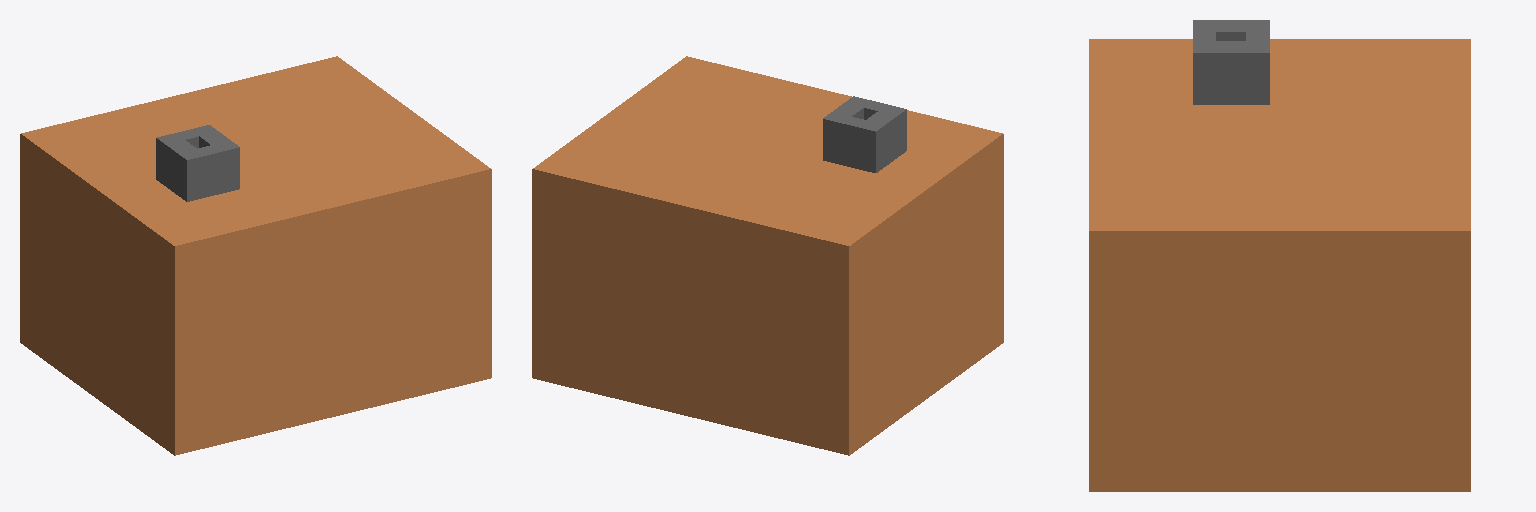
URDF robot description (peg_in_hole_tolerances_scenes_scene_0063_tol03):
<?xml version="1.0"?>
<robot name="peg_in_hole_tolerances_scenes_scene_0063_tol03">
  <material name="wood"><color rgba="0.82 0.56 0.35 1.0"/></material>
  <material name="hole_grey"><color rgba="0.4706 0.4706 0.4706 1.0"/></material>
  <link name="box">
    <visual>
      <origin xyz="0.000000 0.000000 0.000000" rpy="0 0 0"/>
      <geometry><box size="0.475000 0.400000 0.300000"/></geometry>
      <material name="wood"/>
    </visual>
    <collision>
      <origin xyz="0.000000 0.000000 0.000000" rpy="0 0 0"/>
      <geometry><box size="0.475000 0.400000 0.300000"/></geometry>
    </collision>
    <visual>
      <origin xyz="-0.115793 -0.050730 0.155000" rpy="0 0 0"/>
      <geometry><box size="0.080000 0.080000 0.010000"/></geometry>
      <material name="hole_grey"/>
    </visual>
    <collision>
      <origin xyz="-0.115793 -0.050730 0.155000" rpy="0 0 0"/>
      <geometry><box size="0.080000 0.080000 0.010000"/></geometry>
    </collision>
    <visual>
      <origin xyz="-0.090458 -0.050730 0.185000" rpy="0 0 0"/>
      <geometry><box size="0.029330 0.080000 0.050000"/></geometry>
      <material name="hole_grey"/>
    </visual>
    <collision>
      <origin xyz="-0.090458 -0.050730 0.185000" rpy="0 0 0"/>
      <geometry><box size="0.029330 0.080000 0.050000"/></geometry>
    </collision>
    <visual>
      <origin xyz="-0.141128 -0.050730 0.185000" rpy="0 0 0"/>
      <geometry><box size="0.029330 0.080000 0.050000"/></geometry>
      <material name="hole_grey"/>
    </visual>
    <collision>
      <origin xyz="-0.141128 -0.050730 0.185000" rpy="0 0 0"/>
      <geometry><box size="0.029330 0.080000 0.050000"/></geometry>
    </collision>
    <visual>
      <origin xyz="-0.115793 -0.022895 0.185000" rpy="0 0 0"/>
      <geometry><box size="0.021340 0.024330 0.050000"/></geometry>
      <material name="hole_grey"/>
    </visual>
    <collision>
      <origin xyz="-0.115793 -0.022895 0.185000" rpy="0 0 0"/>
      <geometry><box size="0.021340 0.024330 0.050000"/></geometry>
    </collision>
    <visual>
      <origin xyz="-0.115793 -0.078566 0.185000" rpy="0 0 0"/>
      <geometry><box size="0.021340 0.024330 0.050000"/></geometry>
      <material name="hole_grey"/>
    </visual>
    <collision>
      <origin xyz="-0.115793 -0.078566 0.185000" rpy="0 0 0"/>
      <geometry><box size="0.021340 0.024330 0.050000"/></geometry>
    </collision>
    <inertial>
      <mass value="500"/>
      <friction value="1.0"/>
      <inertia ixx="1000.0" ixy="0.0" ixz="0.0" iyy="1000.0" iyz="0.0" izz="1000.0"/>
    </inertial>
  </link>
</robot>

--- What the picture shows (computed from the rendered views, not written in the file) ---
3 views of the same robot in one strip: view 1: azimuth 30°, elevation 25°; view 2: azimuth 150°, elevation 25°; view 3: azimuth 270°, elevation 25° (orthographic).
Model peg_in_hole_tolerances_scenes_scene_0063_tol03 with 1 links and 0 joints (none), rooted at box, posed every joint at zero.
Visible links, largest first — view 1: box; view 2: box; view 3: box.
Boxes of the visible links, box(x1,y1,x2,y2) form: box: box(20, 56, 491, 455); box: box(532, 56, 1003, 455); box: box(1089, 20, 1470, 491).
Size in the robot's own frame: 0.475 by 0.4 by 0.36 metres.
Geometry: primitives only (box / cylinder / sphere), no mesh files.
